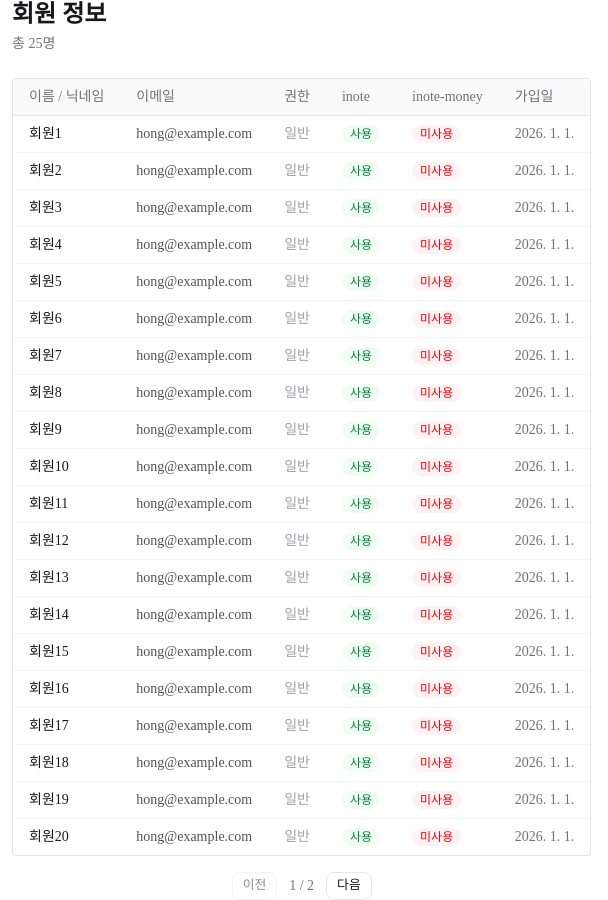
Test: AdminMembersPage › 마지막 페이지로 이동하면 다음 버튼이 비활성화된다
expect the text "회원1" is shown: met, box [29,126,62,141]
Click the button "다음" at point(349, 886), box [326,872,372,899]
(page scrolled)
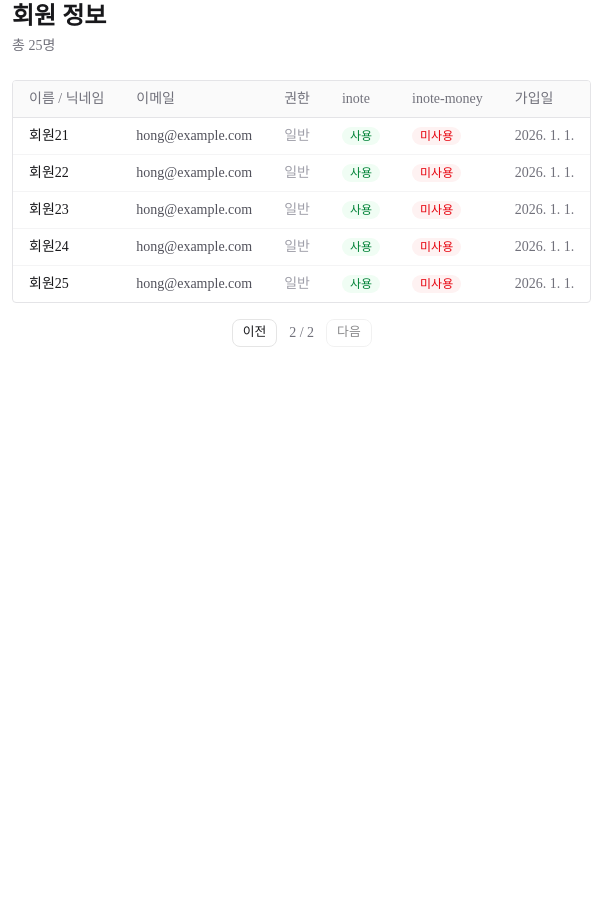
expect the text "2 / 2" is shown: met, box [289,323,314,343]
expect the text "회원21" is shown: met, box [29,128,69,143]
expect the button "다음" is disabled: met, box [326,319,372,347]
